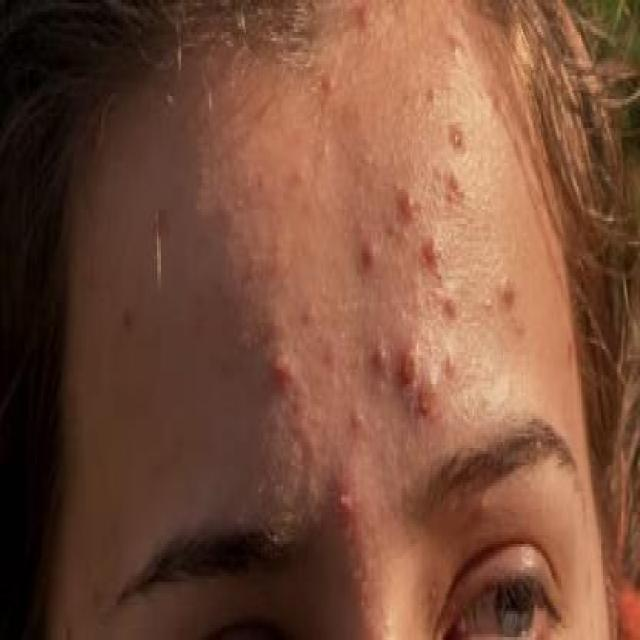papules: (253, 329, 304, 404), (414, 218, 451, 291), (389, 332, 429, 392), (435, 152, 468, 210), (436, 276, 466, 334), (366, 323, 394, 381), (352, 227, 386, 273), (342, 402, 378, 445), (411, 366, 438, 422), (389, 172, 420, 218), (317, 58, 345, 108), (494, 271, 524, 314), (442, 23, 469, 67), (351, 0, 383, 32), (443, 343, 465, 378)
pustules: (324, 474, 362, 527)
